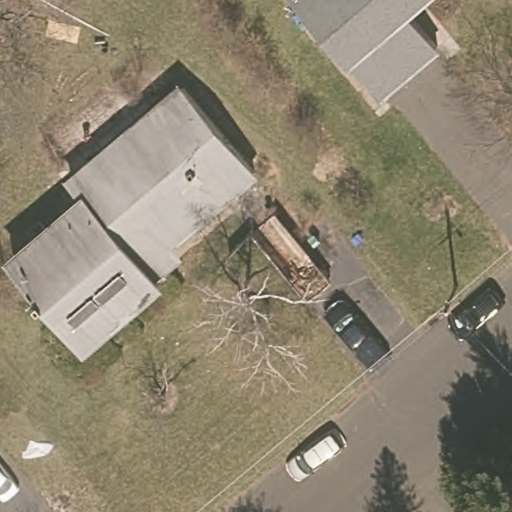DT: (428, 302, 462, 320)
